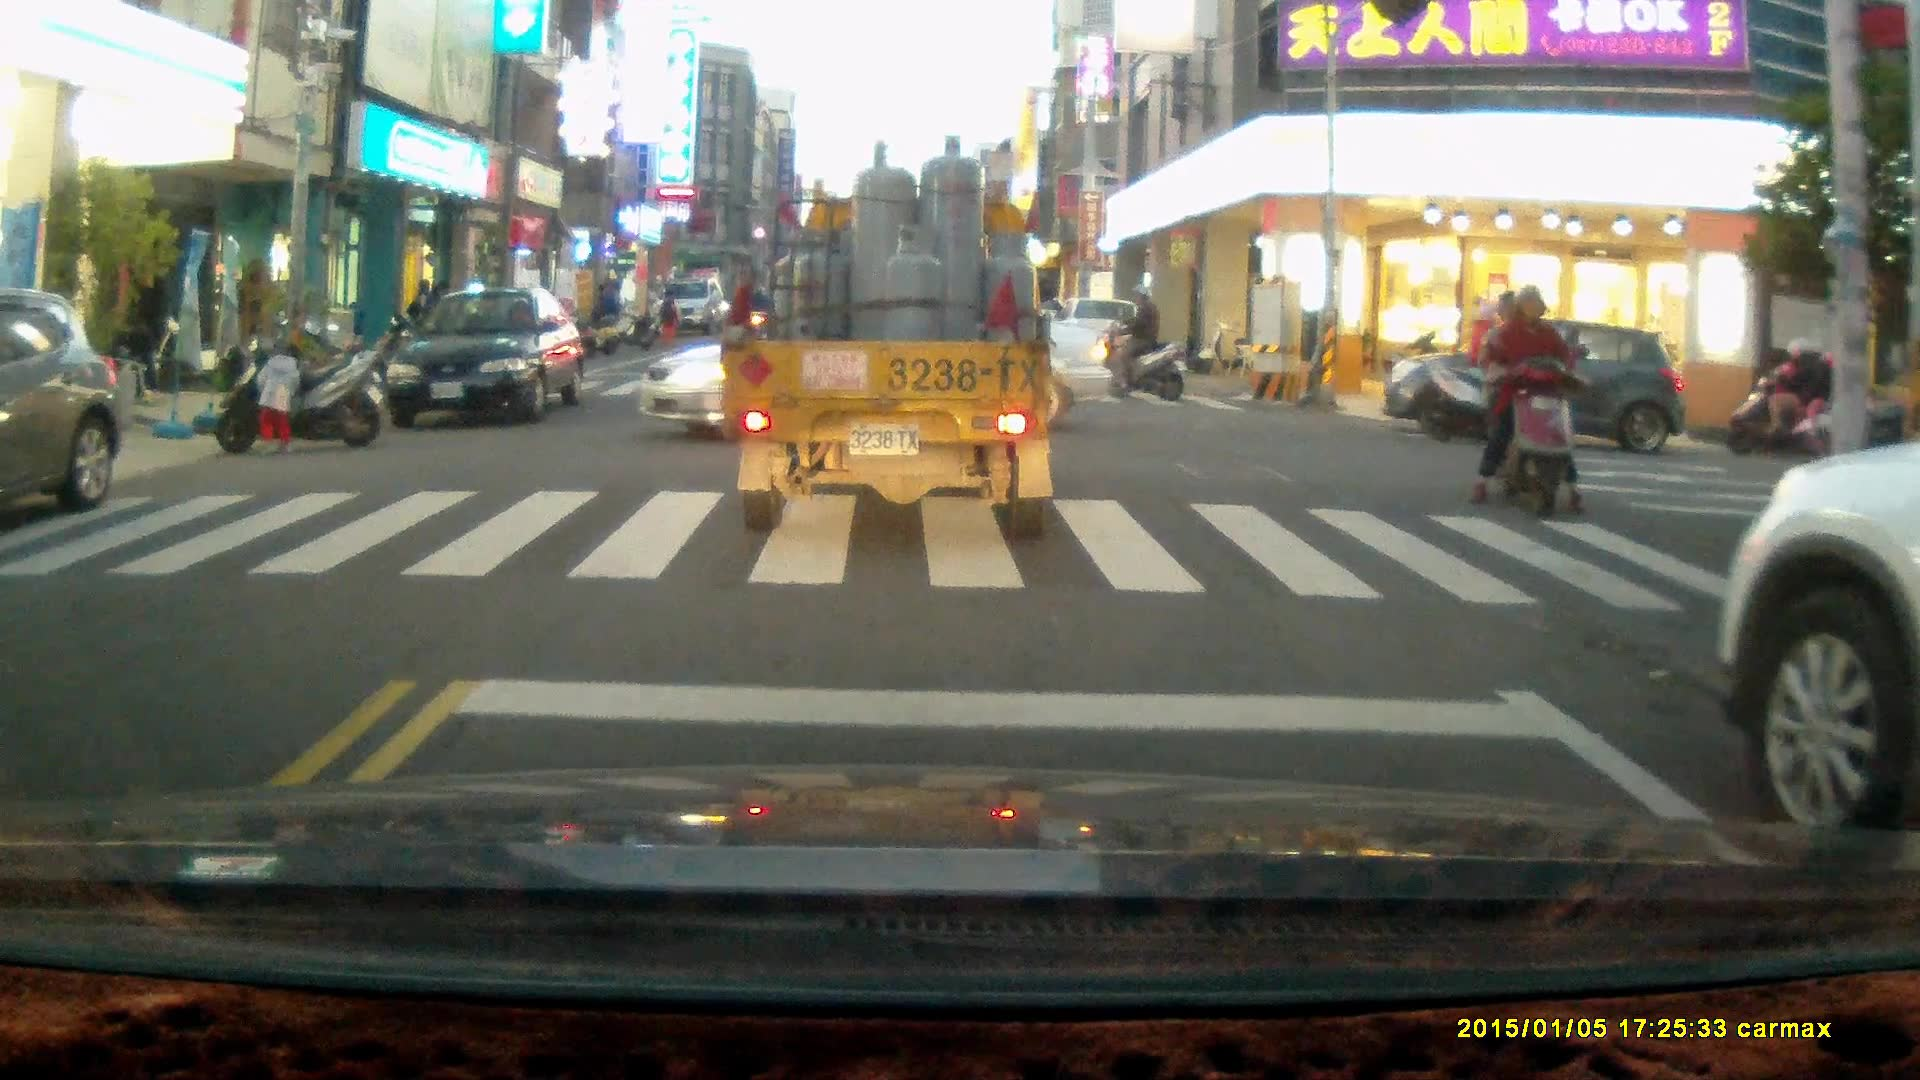pedestrian: (255, 339, 305, 457), (598, 278, 625, 340), (658, 285, 682, 343)
rider: (1469, 285, 1586, 520), (1426, 301, 1568, 448), (1723, 336, 1841, 464), (1092, 283, 1187, 404)
vehicle: (719, 132, 1057, 534), (1707, 438, 1920, 847), (1379, 322, 1682, 460), (379, 289, 587, 428), (652, 278, 728, 335)
